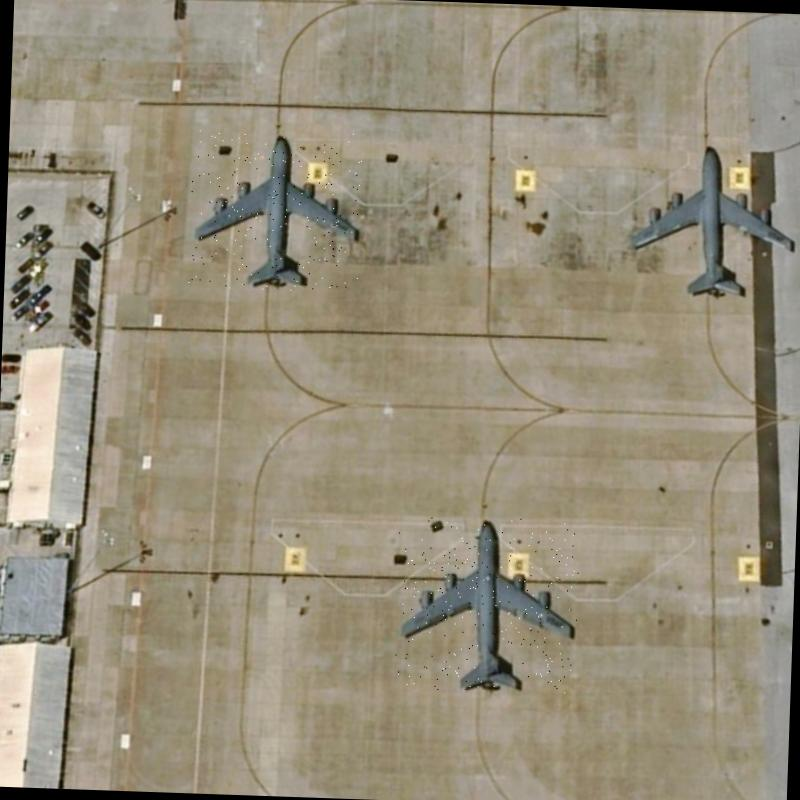A14: (393, 513, 581, 694), (188, 128, 363, 292), (625, 139, 800, 302)
